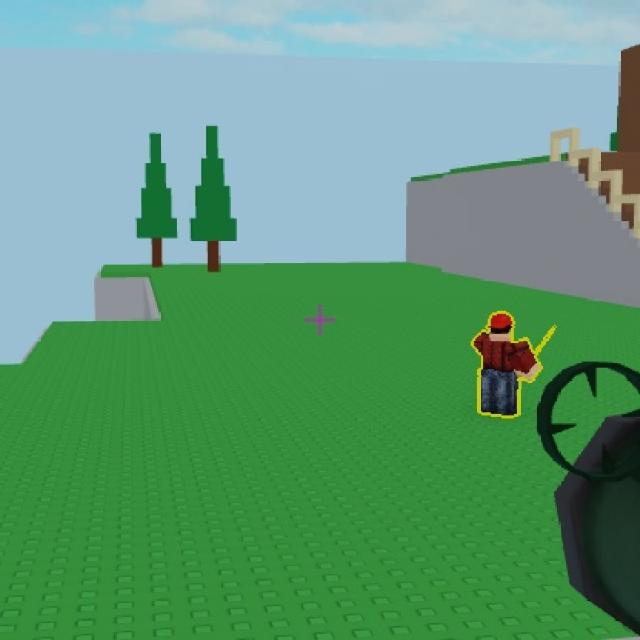player: (471, 308, 527, 414)
